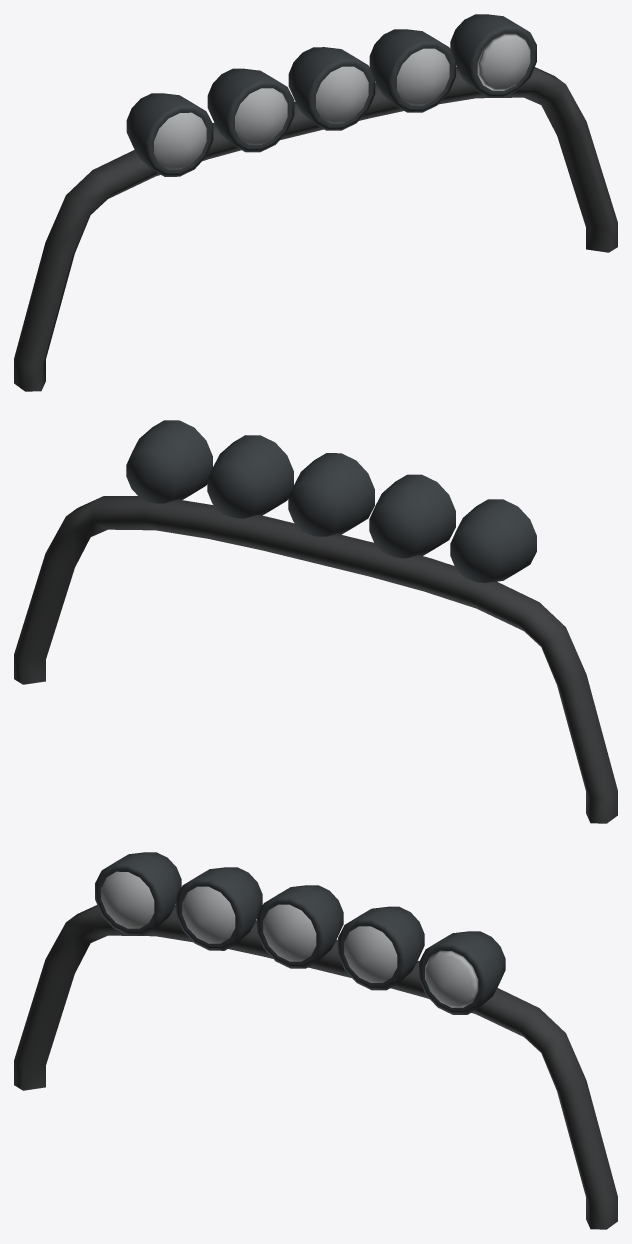
File: Car_04_FogLight.fbx
3 views of the same model, one above another, from view 1: azimuth 30°, elevation 25°; view 2: azimuth 150°, elevation 25°; view 3: azimuth 330°, elevation 25° (orthographic).
Visible parts, largest first — view 1: Car_04_FogLight; view 2: Car_04_FogLight; view 3: Car_04_FogLight.
Boxes of the visible parts, x1=… form: Car_04_FogLight: x1=14, y1=14, x2=617, y2=391; Car_04_FogLight: x1=14, y1=420, x2=617, y2=823; Car_04_FogLight: x1=14, y1=852, x2=617, y2=1229.
Size of the model in its own units: 168 by 21.7 by 74.81.
